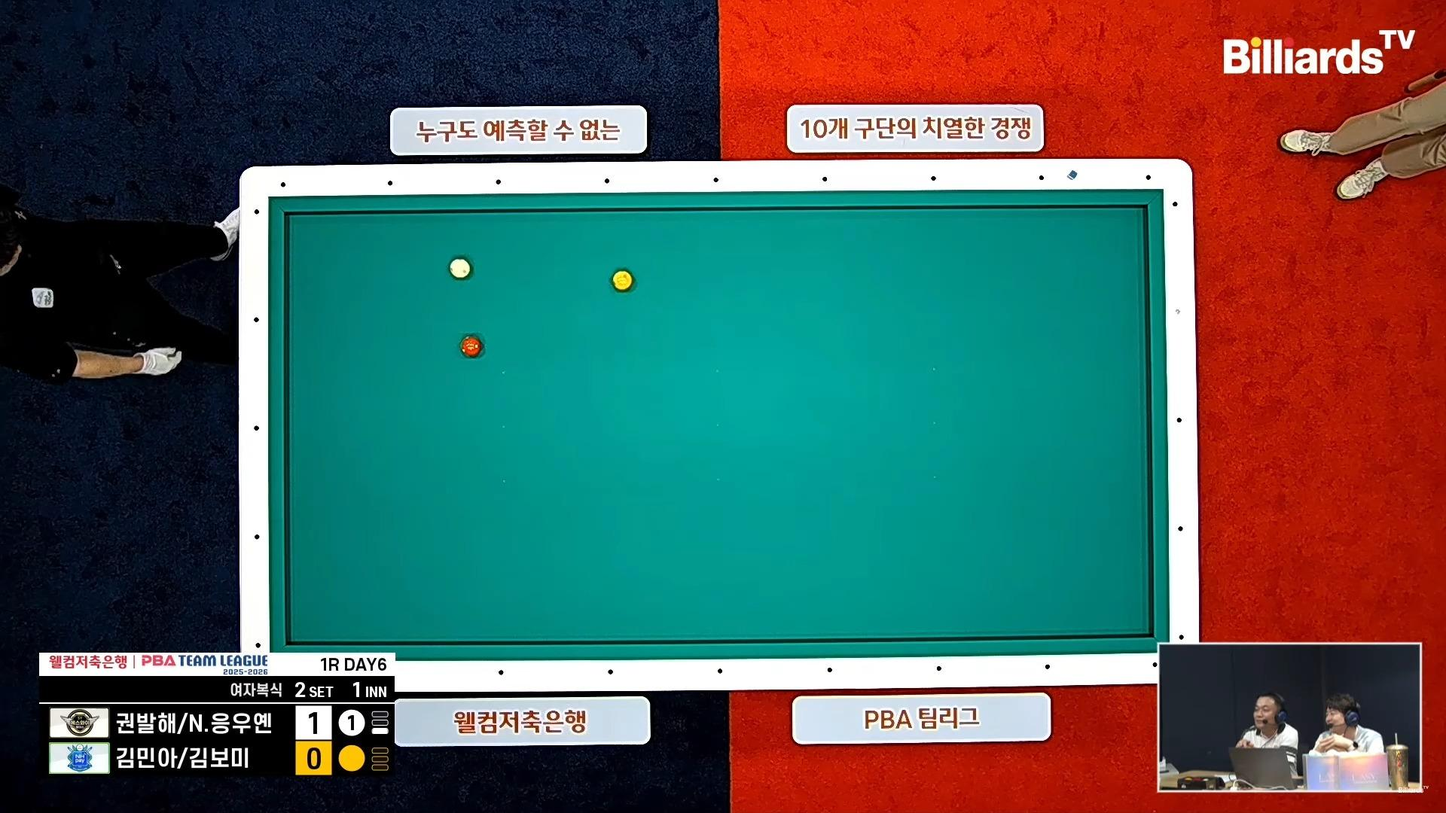billiard-ball-Red: (459, 331, 482, 359)
billiard-ball-white: (610, 267, 635, 294), (449, 254, 472, 280)
